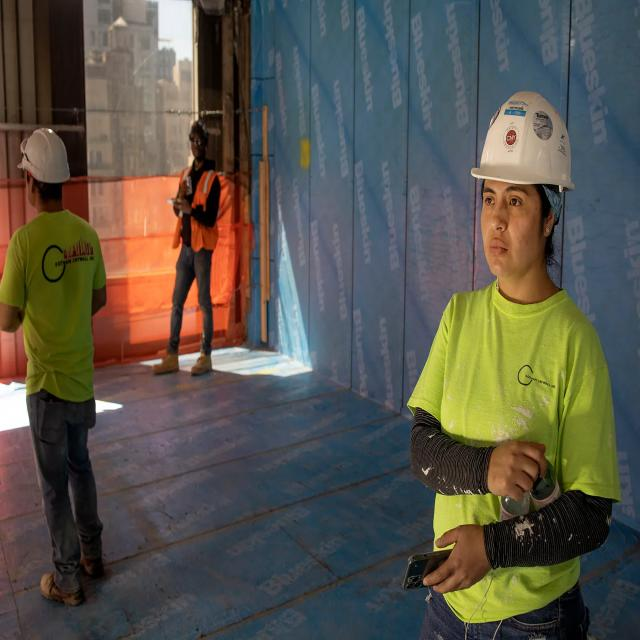Boots: (31, 538, 112, 627), (151, 347, 217, 382)
Hard Hat: (469, 90, 578, 188), (12, 126, 72, 185), (187, 118, 208, 136)
Reflective Vest: (169, 164, 223, 258)
